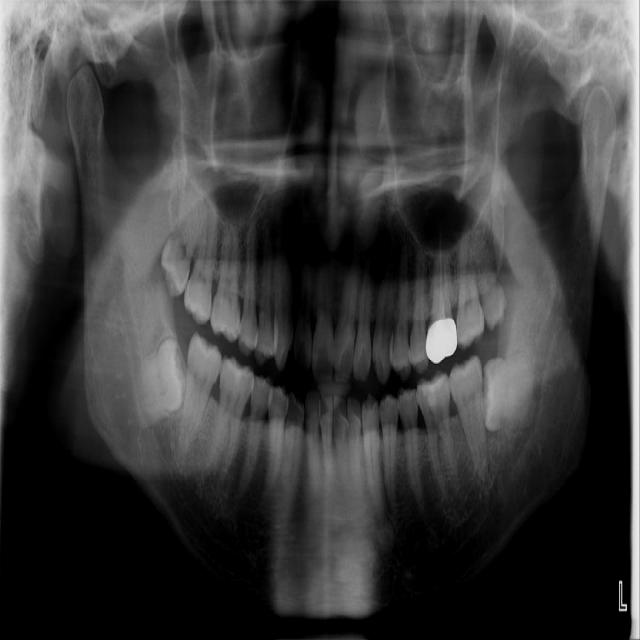Crown: (426, 317, 458, 364)
Filling: (418, 378, 446, 406)
Root Canal Treatment: (436, 242, 444, 309)
impacted tooth: (161, 194, 203, 298), (484, 343, 534, 428), (136, 341, 184, 423), (474, 225, 509, 326)
